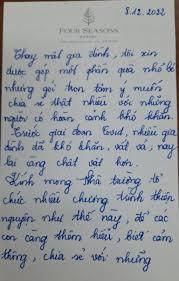text: (1, 188, 176, 215), (1, 206, 171, 233), (1, 226, 174, 251), (6, 169, 166, 196), (0, 246, 154, 274), (3, 107, 174, 131), (4, 61, 177, 83), (2, 78, 164, 101), (4, 139, 178, 160), (9, 123, 179, 144), (12, 46, 162, 69), (4, 153, 141, 178), (7, 94, 171, 114), (123, 4, 169, 20), (57, 27, 121, 33)
